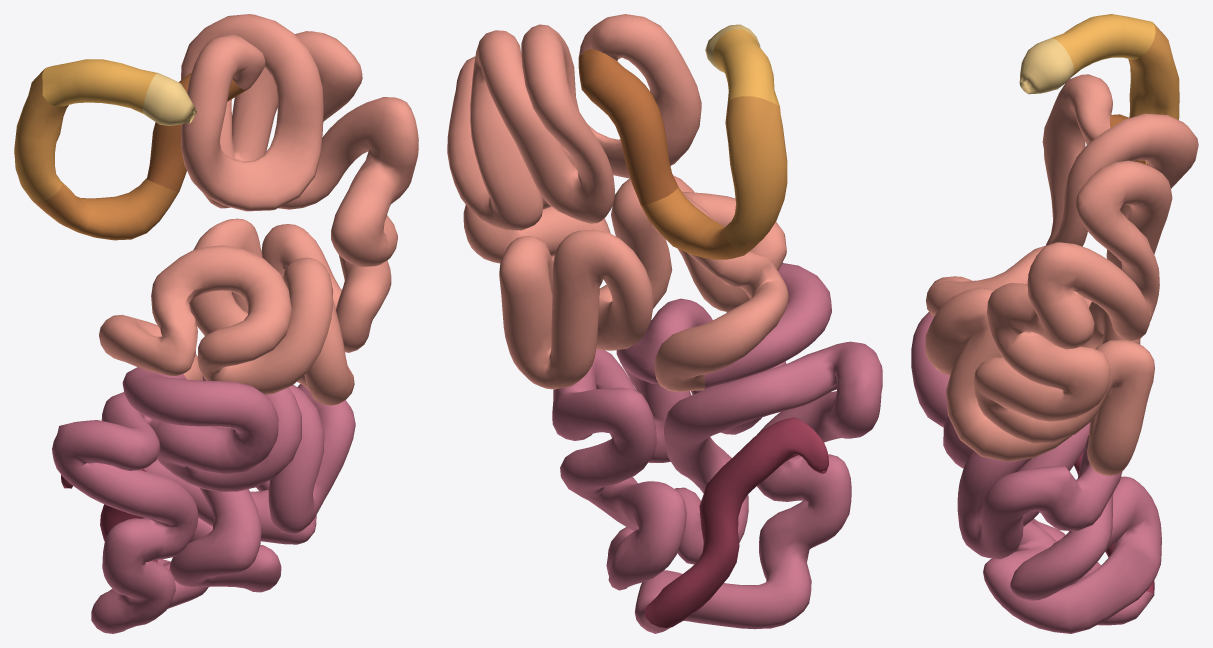
The model's file is intestino.glb.
The picture shows the model from 3 angles, left to right: view 1: azimuth 30°, elevation 25°; view 2: azimuth 150°, elevation 25°; view 3: azimuth 270°, elevation 25°; orthographic projection. The views are drawn at different scales.
Parts seen in each view (by area): view 1: VH_M_jejunum, VH_M_ileum, VH_M_duodenum_horizonal, VH_M_duodenum_superior, VH_M_duodenum_descending, VH_M_duodenum_ascending, VH_M_duodenal_ampulla, VH_M_ileum_terminal; view 2: VH_M_jejunum, VH_M_ileum, VH_M_ileum_terminal, VH_M_duodenum_descending, VH_M_duodenum_ascending, VH_M_duodenum_horizonal, VH_M_duodenum_superior; view 3: VH_M_jejunum, VH_M_ileum, VH_M_duodenum_superior, VH_M_duodenum_descending, VH_M_duodenal_ampulla.
Part boxes in pixels (bbox=[...]): VH_M_jejunum: bbox=[99, 14, 418, 405]; VH_M_ileum: bbox=[52, 367, 355, 633]; VH_M_duodenum_horizonal: bbox=[33, 178, 178, 240]; VH_M_duodenum_superior: bbox=[42, 59, 157, 113]; VH_M_duodenum_descending: bbox=[14, 69, 70, 202]; VH_M_duodenum_ascending: bbox=[147, 73, 246, 191]; VH_M_duodenal_ampulla: bbox=[143, 73, 196, 125]; VH_M_ileum_terminal: bbox=[61, 469, 157, 561]; VH_M_jejunum: bbox=[447, 14, 788, 392]; VH_M_ileum: bbox=[552, 263, 882, 633]; VH_M_ileum_terminal: bbox=[644, 417, 828, 627]; VH_M_duodenum_descending: bbox=[725, 96, 787, 249]; VH_M_duodenum_ascending: bbox=[578, 49, 678, 205]; VH_M_duodenum_horizonal: bbox=[641, 187, 762, 259]; VH_M_duodenum_superior: bbox=[713, 29, 779, 105]; VH_M_jejunum: bbox=[925, 74, 1198, 475]; VH_M_ileum: bbox=[911, 312, 1161, 633]; VH_M_duodenum_superior: bbox=[1052, 14, 1155, 77]; VH_M_duodenum_descending: bbox=[1128, 23, 1179, 119]; VH_M_duodenal_ampulla: bbox=[1019, 38, 1074, 94].
Size of the model in its own units: 0.188 by 0.2654 by 0.1222.
